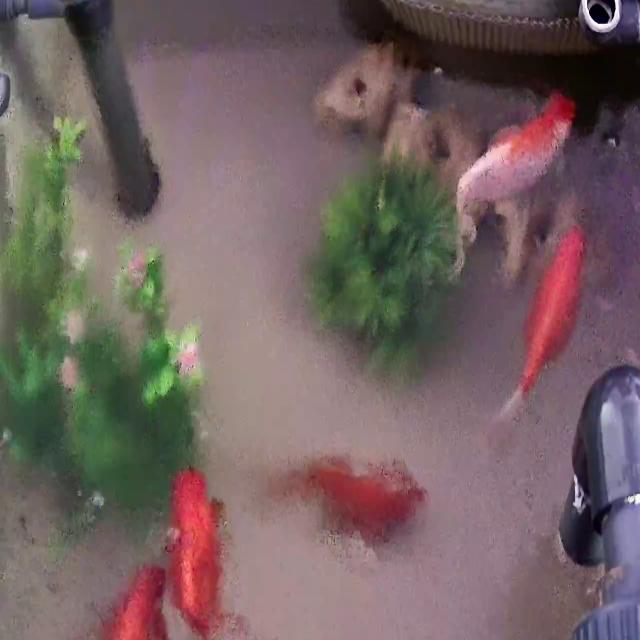fish: (496, 230, 590, 422), (456, 90, 579, 231), (44, 561, 168, 640), (168, 466, 224, 639), (308, 457, 414, 542)
